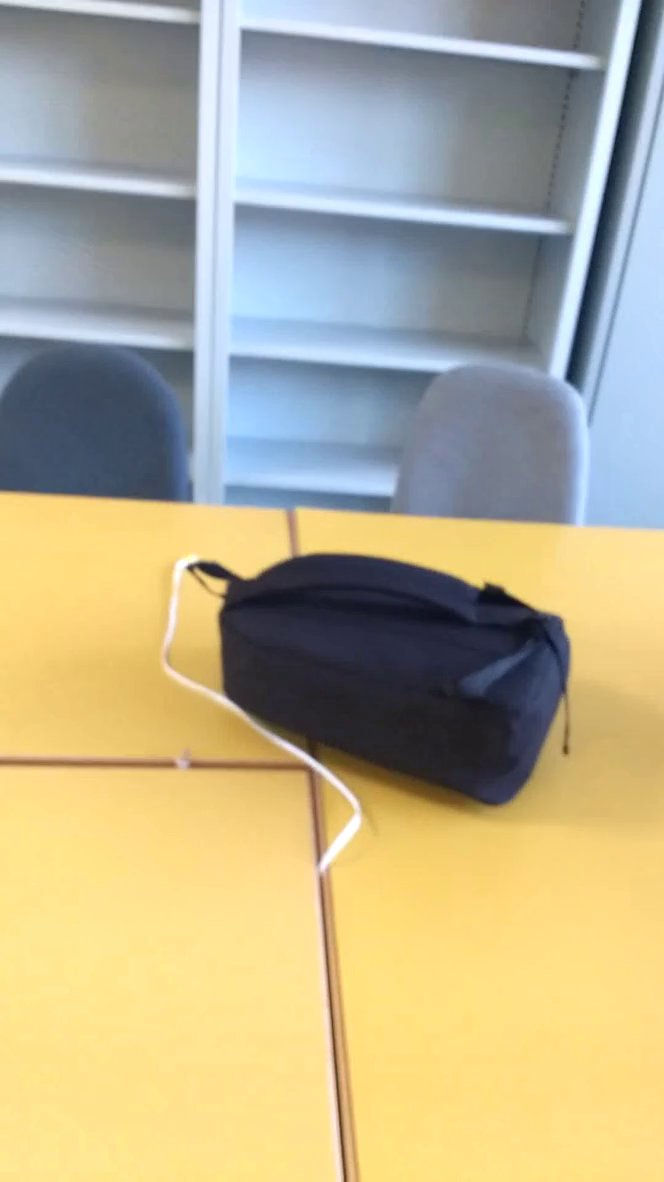bag: (177, 536, 583, 822)
chair: (375, 342, 612, 553), (2, 325, 214, 516)
